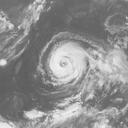cyclone: (45, 39, 86, 87)
